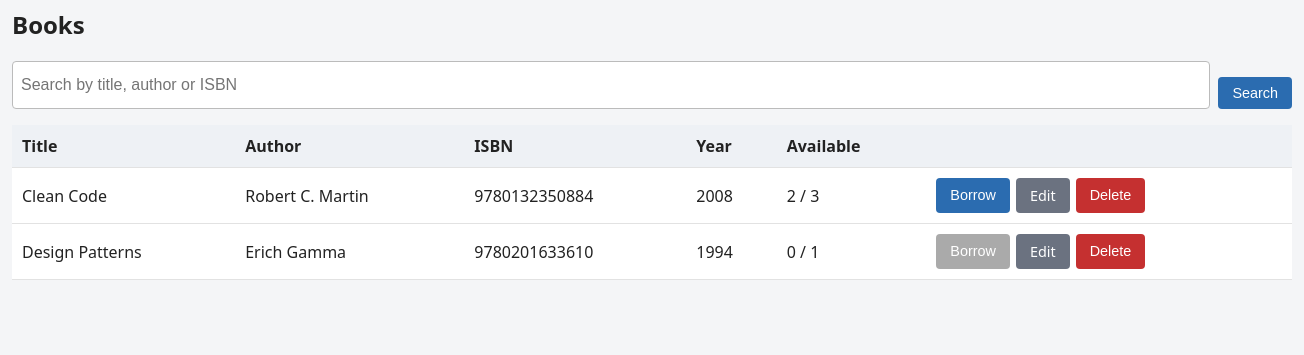
Test: admin can delete a book after confirming
Click the button "Delete" in the row of "Clean Code". click: click(1110, 195)
box: [1076,178,1145,213]
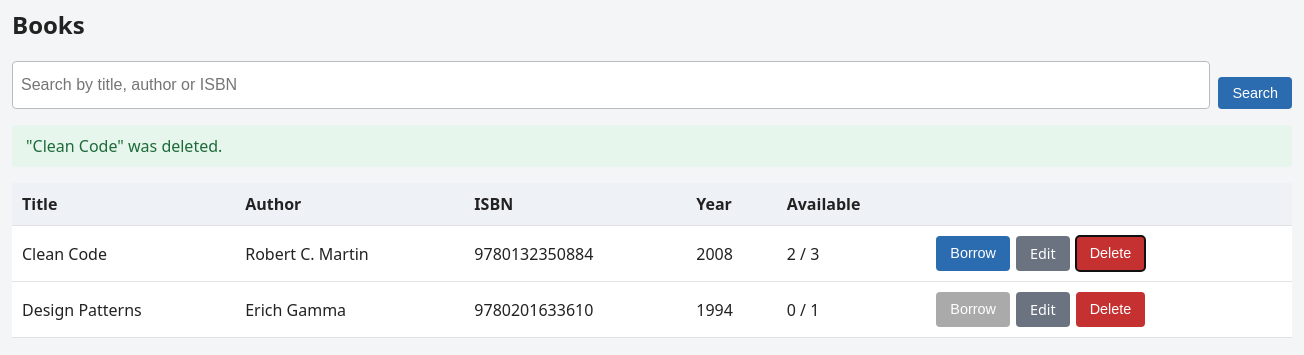
Check: the message reads "\"Clean Code\" was deleted.", box [26,135,222,157]
